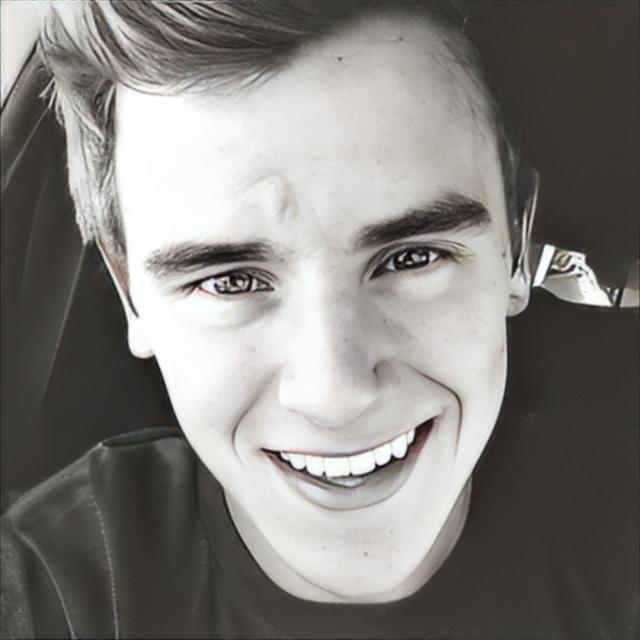happy: (132, 60, 506, 586)
